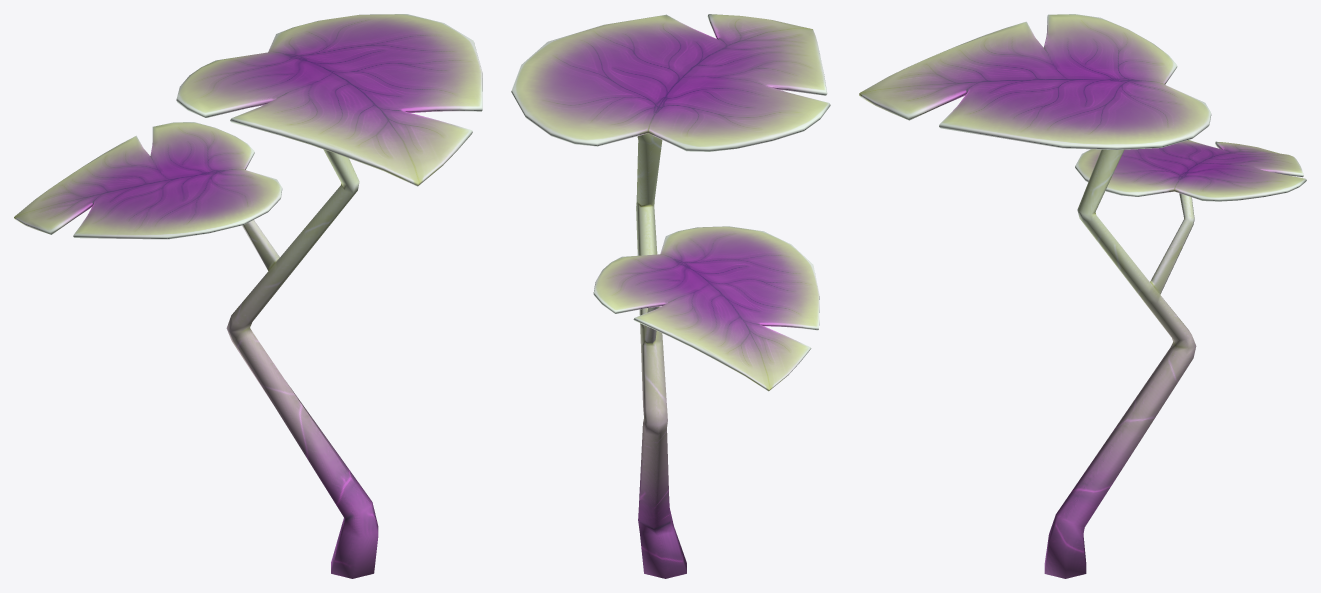
File: Lily1.fbx
3 renders of one model, left to right at view 1: azimuth 30°, elevation 25°; view 2: azimuth 150°, elevation 25°; view 3: azimuth 270°, elevation 25°, orthographic. The views are drawn at different scales.
Visible parts, largest first — view 1: Lily1; view 2: Lily1; view 3: Lily1.
Part boxes in pixels (x1=…): Lily1: x1=14, y1=14, x2=482, y2=578; Lily1: x1=511, y1=14, x2=830, y2=578; Lily1: x1=859, y1=14, x2=1306, y2=578.
Bounding box in the file's own units: 927 × 1285 × 1079.
Materials: 1 (1 with a texture image).
